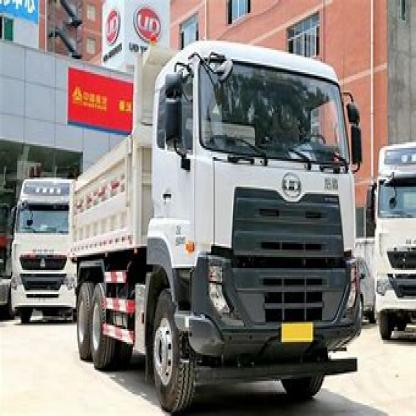dump_truck: (68, 34, 366, 400)
